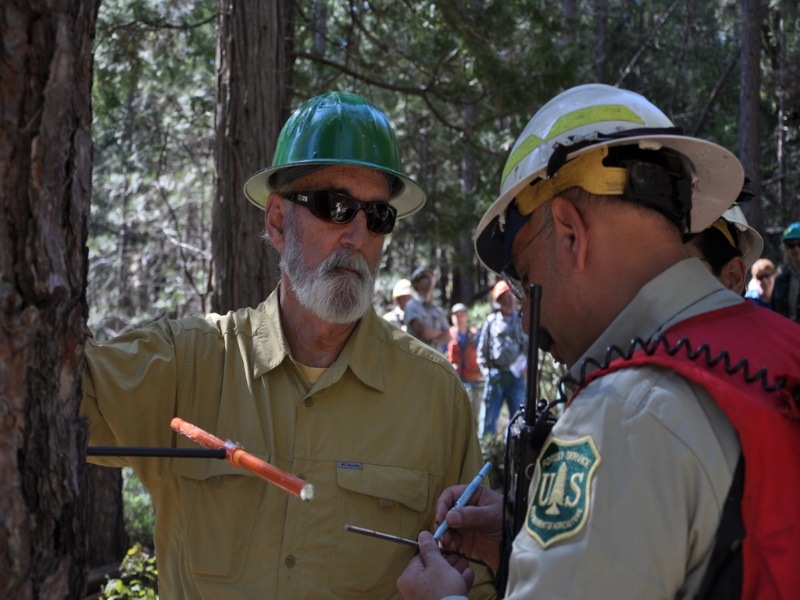Baret: (491, 84, 698, 200), (269, 90, 408, 191)
